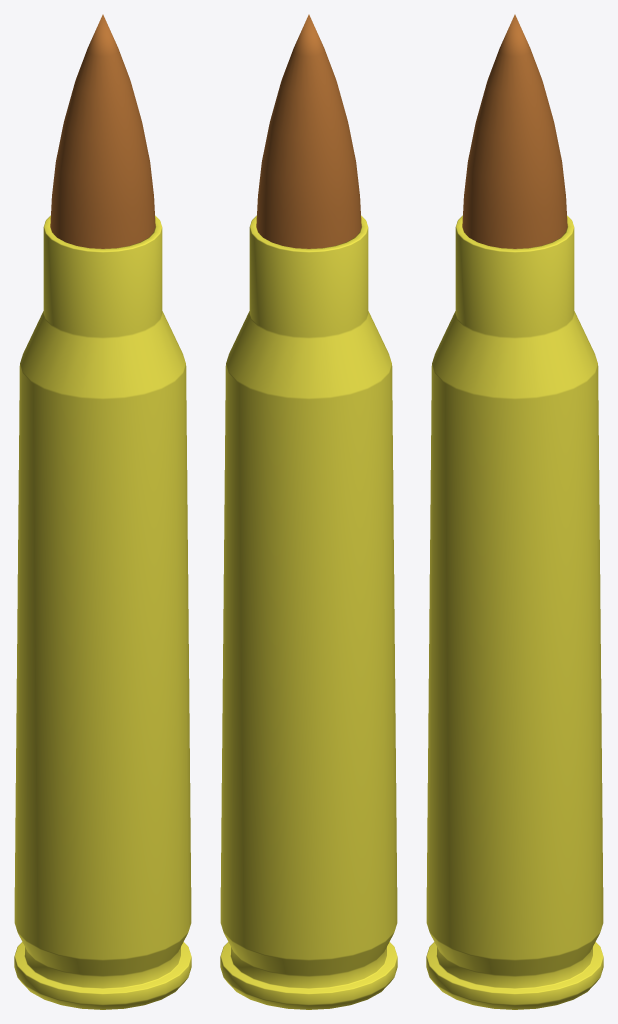
Rendered from bullet556.glb.
3 renders of one model, left to right at view 1: azimuth 30°, elevation 25°; view 2: azimuth 150°, elevation 25°; view 3: azimuth 270°, elevation 25°, orthographic.
Visible parts, largest first — view 1: Cartridge Case, Bullet; view 2: Cartridge Case, Bullet; view 3: Cartridge Case, Bullet.
Part boxes in pixels (x1,y1,x2,y2): Cartridge Case: (14,215,191,1009); Bullet: (50,14,155,248); Cartridge Case: (220,215,397,1009); Bullet: (256,14,361,248); Cartridge Case: (426,215,603,1009); Bullet: (462,14,567,248).
Size of the model in its own units: 9.6 by 57.4 by 9.6.
